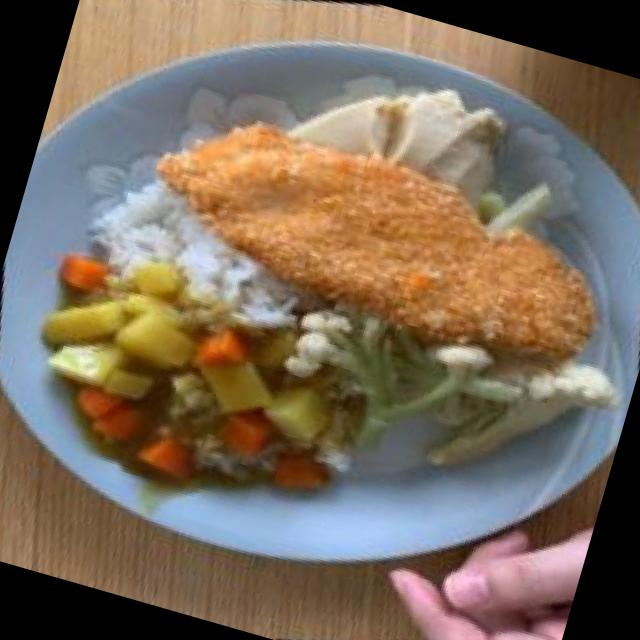curry: (0, 189, 401, 557)
fried_chicken: (95, 19, 640, 449)
rice: (58, 134, 336, 366)
